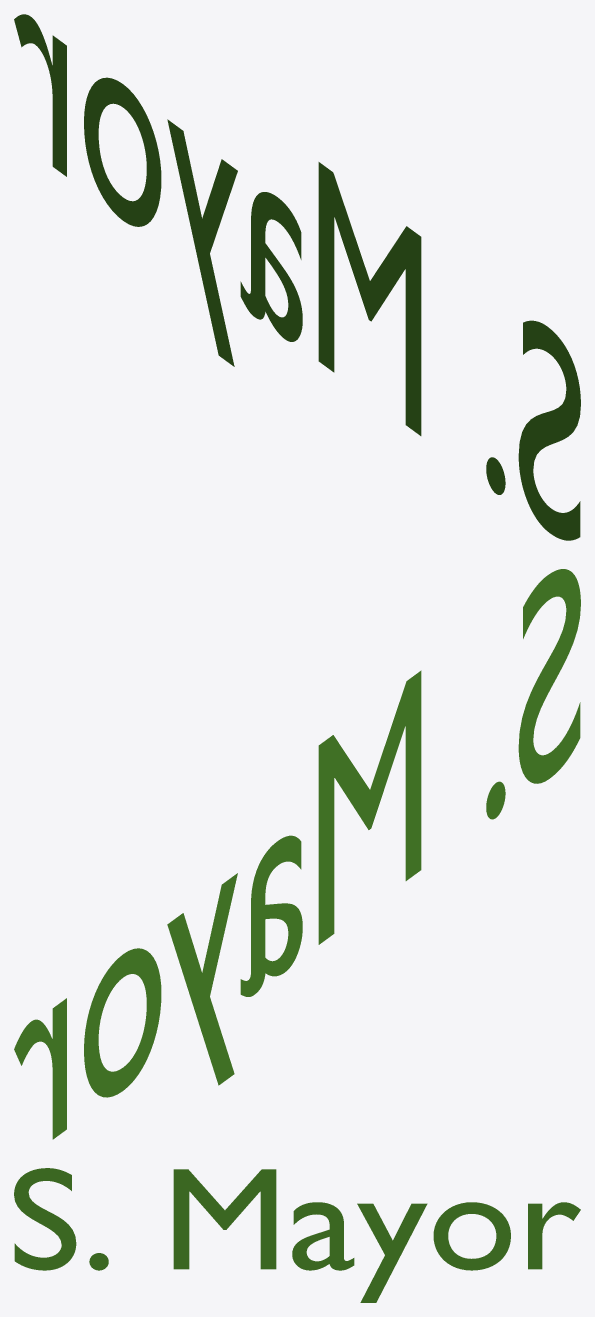
The model's file is smayor.gltf.
The picture shows the model from 3 angles, top to bottom: view 1: azimuth 30°, elevation 25°; view 2: azimuth 150°, elevation 25°; view 3: azimuth 270°, elevation 25°; orthographic projection. The views are drawn at different scales.
Visible parts, largest first — view 1: Text; view 2: Text; view 3: Text.
Part boxes in pixels (left/top/right/bottom): Text: left=14, top=14, right=580, bottom=540; Text: left=14, top=569, right=580, bottom=1139; Text: left=14, top=1168, right=580, bottom=1302.
Bounding box in the file's own units: 1.15e-07 × 0.921 × 3.51.
